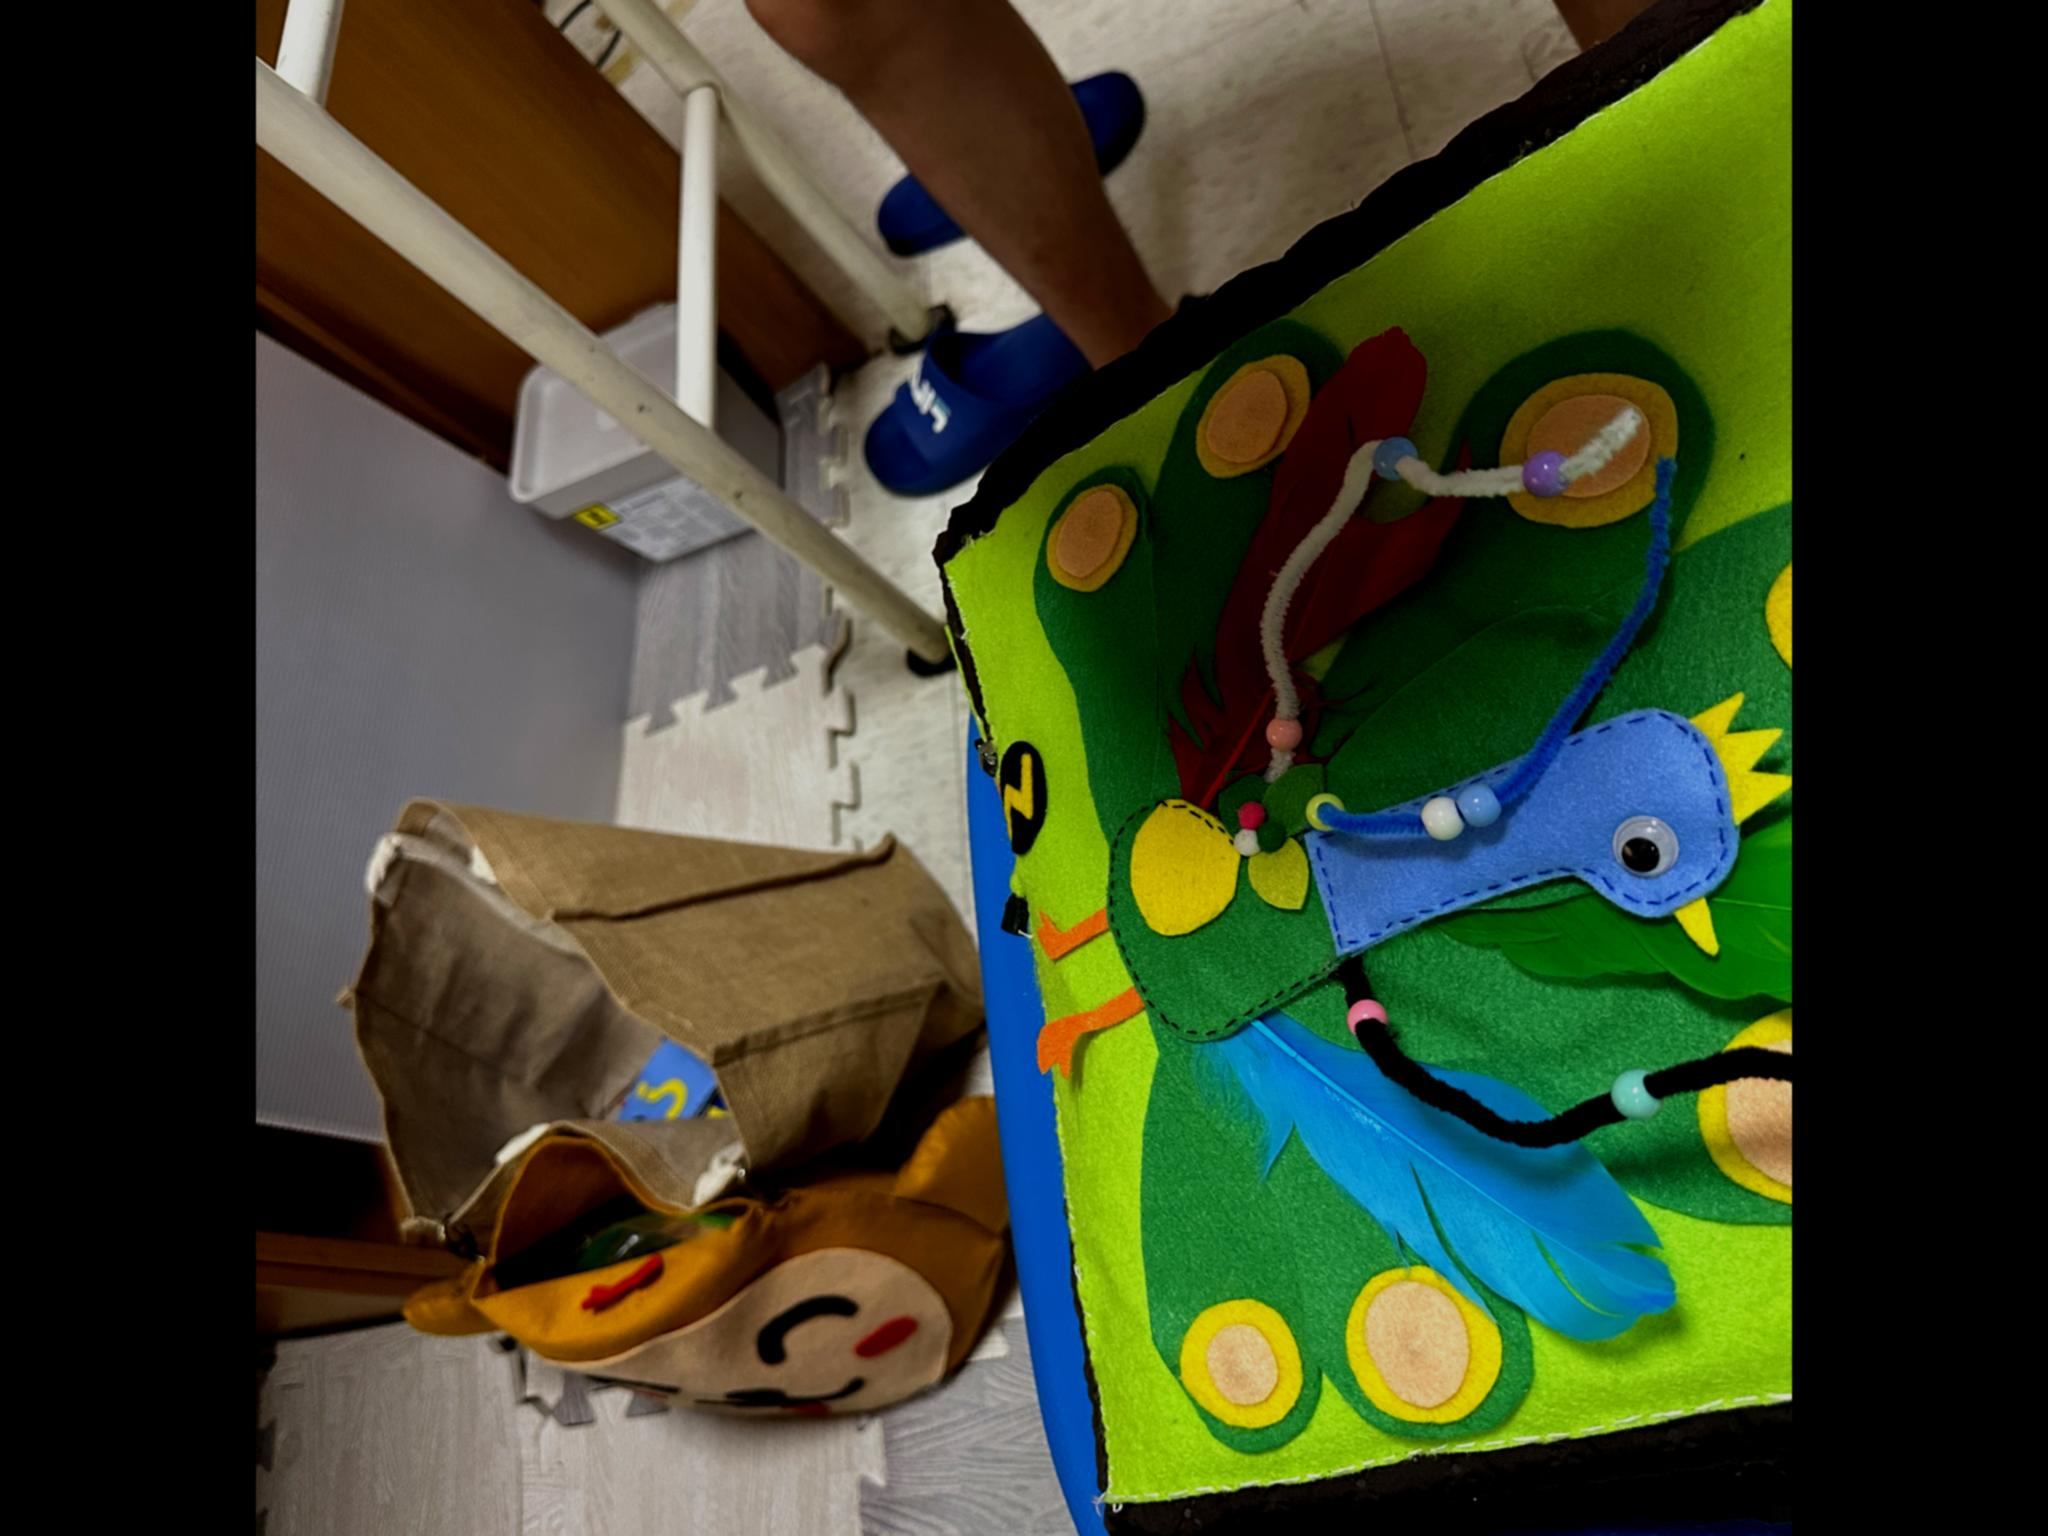bead: (1338, 992, 1424, 1050), (1601, 1054, 1663, 1126), (1521, 429, 1576, 505), (1369, 421, 1426, 494), (1464, 774, 1521, 828), (1422, 783, 1458, 857), (1259, 708, 1303, 745)
